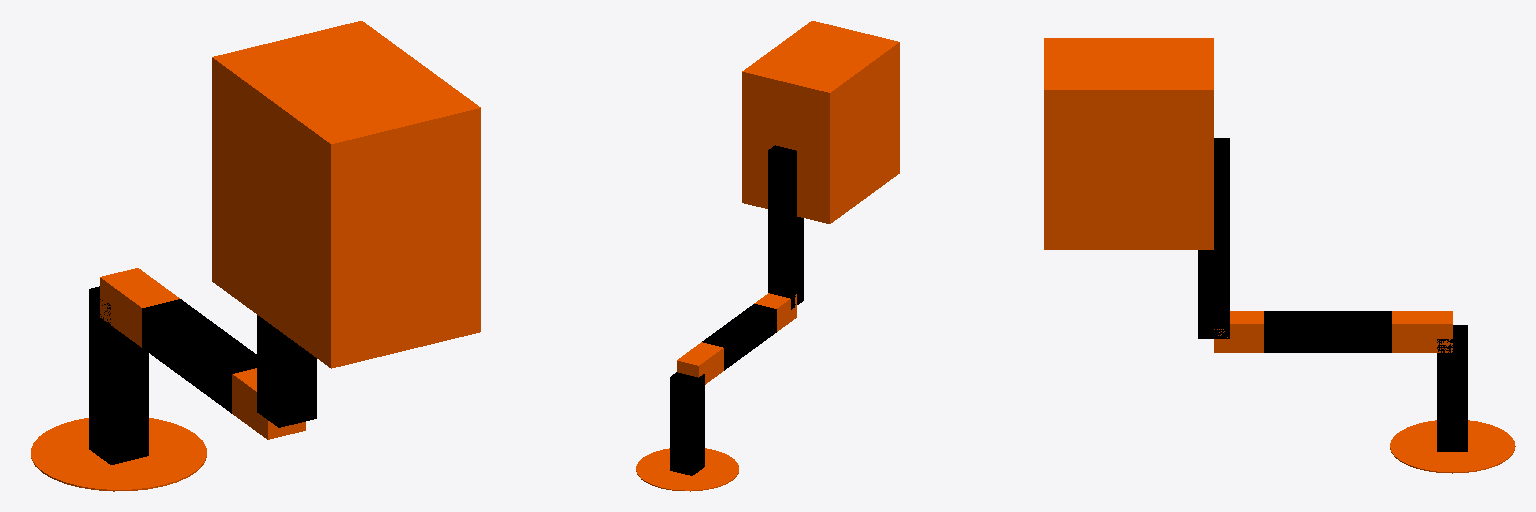
URDF robot description (unist_manipulator5a):
<?xml version="1.0" ?>
<!-- =================================================================================== -->
<!-- |    This document was autogenerated by xacro from manipulator.xacro              | -->
<!-- |    EDITING THIS FILE BY HAND IS NOT RECOMMENDED                                 | -->
<!-- =================================================================================== -->
<robot name="unist_manipulator5a" xmlns:xacro="http://www.ros.org/wiki/xacro">
  <material name="black">
    <color rgba="0.0 0.0 0.0 1.0"/>
  </material>
  <material name="orange">
    <color rgba="1.0 0.4 0.0 1.0"/>
  </material>
  <link name="world"/>
  &gt;

    
  <joint name="fixed" type="fixed">
    <parent link="world"/>
    <child link="base_link"/>
  </joint>
  <link name="base_link">
    <visual>
      <origin rpy="0.0 0.0 0.0" xyz="0.0 0.135 0.0"/>
      <geometry>
        <box size="0.196 0.27 0.28"/>
      </geometry>
      <material name="orange"/>
    </visual>
  </link>
  <joint name="Joint1" type="revolute">
    <origin rpy="0.0 0.0 0.0" xyz="0.0 0.27 0.0"/>
    <parent link="base_link"/>
    <child link="link_1"/>
    <axis xyz="1.0 0.0 0.0"/>
    <limit effort="1.91" lower="-1.57" upper="1.57" velocity="1.0"/>
  </joint>
  <link name="link_1">
    <visual>
      <origin rpy="0.0 0.0 0.0" xyz="0.0 0.0 -0.165"/>
      <geometry>
        <box size="0.05 0.05 -0.33"/>
      </geometry>
      <material name="black"/>
    </visual>
  </link>
  <joint name="Joint2" type="revolute">
    <origin rpy="0.0 0.0 0.0" xyz="0.0 0.0 -0.33"/>
    <parent link="link_1"/>
    <child link="link_2"/>
    <axis xyz="1.0 0.0 0.0"/>
    <limit effort="1.91" lower="-1.57" upper="1.57" velocity="1.0"/>
  </joint>
  <link name="link_2">
    <visual>
      <origin rpy="0.0 0.0 0.0" xyz="0.0 0.04 0"/>
      <geometry>
        <box size="0.05 0.08 0.05"/>
      </geometry>
      <material name="orange"/>
    </visual>
  </link>
  <joint name="Joint_3" type="revolute">
    <origin rpy="0.0 0.0 0.0" xyz="0.0 0.08 0.0"/>
    <parent link="link_2"/>
    <child link="link_3"/>
    <axis xyz="0.0 0.0 1.0"/>
    <limit effort="1.27" lower="-1.57" upper="1.57" velocity="1.0"/>
  </joint>
  <link name="link_3">
    <visual>
      <origin rpy="0.0 0.0 0.0" xyz="0.0 0.10175 0.0"/>
      <geometry>
        <box size="0.05 0.2035 0.05"/>
      </geometry>
      <material name="black"/>
    </visual>
  </link>
  <joint name="Joint_4" type="revolute">
    <origin rpy="0.0 0.0 0.0" xyz="0.0 0.2035 0.0"/>
    <parent link="link_3"/>
    <child link="link_4"/>
    <axis xyz="0.0 1.0 0.0"/>
    <limit effort="0.318" lower="-3.14" upper="3.14" velocity="1.0"/>
  </joint>
  <link name="link_4">
    <visual>
      <origin rpy="0.0 0.0 0.0" xyz="0.0 0.04825 0.0"/>
      <geometry>
        <box size="0.05 0.0965 0.05"/>
      </geometry>
      <material name="orange"/>
    </visual>
  </link>
  <joint name="Joint_5" type="revolute">
    <origin rpy="0.0 0.0 0.0" xyz="0.0 0.0965 0.0"/>
    <parent link="link_4"/>
    <child link="link_5"/>
    <axis xyz="1.0 0.0 0.0"/>
    <limit effort="0.318" lower="-1.57" upper="1.57" velocity="1.0"/>
  </joint>
  <link name="link_5">
    <visual>
      <origin rpy="0.0 0.0 0.0" xyz="0.0 0.0 -0.1"/>
      <geometry>
        <box size="0.05 0.05 0.2"/>
      </geometry>
      <material name="black"/>
    </visual>
  </link>
  <joint name="Joint_6" type="revolute">
    <origin rpy="0.0 0.0 0.0" xyz="0.0 0.0 -0.2"/>
    <parent link="link_5"/>
    <child link="link_6"/>
    <axis xyz="0.0 0.0 1.0"/>
    <limit effort="3.08" lower="-3.14" upper="3.14" velocity="1.0"/>
  </joint>
  <link name="link_6">
    <visual>
      <origin rpy="0.0 0.0 0.0" xyz="0.0 0.0 -0.001"/>
      <geometry>
        <cylinder length="-0.002" radius="0.1"/>
      </geometry>
      <material name="orange"/>
    </visual>
  </link>
</robot>

--- Render facts (derived) ---
3 views of the same robot in one strip: view 1: azimuth 30°, elevation 25°; view 2: azimuth 150°, elevation 25°; view 3: azimuth 270°, elevation 25° (orthographic).
Robot: unist_manipulator5a — 8 links, 7 joints (6 revolute, 1 fixed); root link world; default pose: all joints at 0.
Links seen in each view (by area): view 1: base_link, link_5, link_6, link_3, link_1, link_4, link_2; view 2: base_link, link_1, link_5, link_6, link_3, link_4, link_2; view 3: base_link, link_3, link_1, link_6, link_5, link_4, link_2.
Boxes of the visible links, x1,y1,x2,y2 form: base_link: [212, 21, 480, 368]; link_5: [89, 286, 148, 464]; link_6: [31, 418, 206, 491]; link_3: [142, 299, 256, 413]; link_1: [257, 315, 316, 427]; link_4: [100, 268, 179, 347]; link_2: [232, 368, 305, 439]; base_link: [742, 21, 899, 223]; link_1: [768, 145, 803, 309]; link_5: [670, 372, 704, 475]; link_6: [636, 448, 738, 491]; link_3: [702, 304, 776, 370]; link_4: [677, 342, 723, 384]; link_2: [754, 293, 796, 331]; base_link: [1044, 38, 1213, 249]; link_3: [1264, 311, 1391, 352]; link_1: [1198, 138, 1229, 338]; link_6: [1390, 420, 1515, 473]; link_5: [1437, 325, 1467, 451]; link_4: [1392, 311, 1452, 352]; link_2: [1214, 311, 1263, 352].
Bounding box of the posed robot: 0.2 × 0.75 × 0.672 m (x, y, z).
Geometry: primitives only (box / cylinder / sphere), no mesh files.